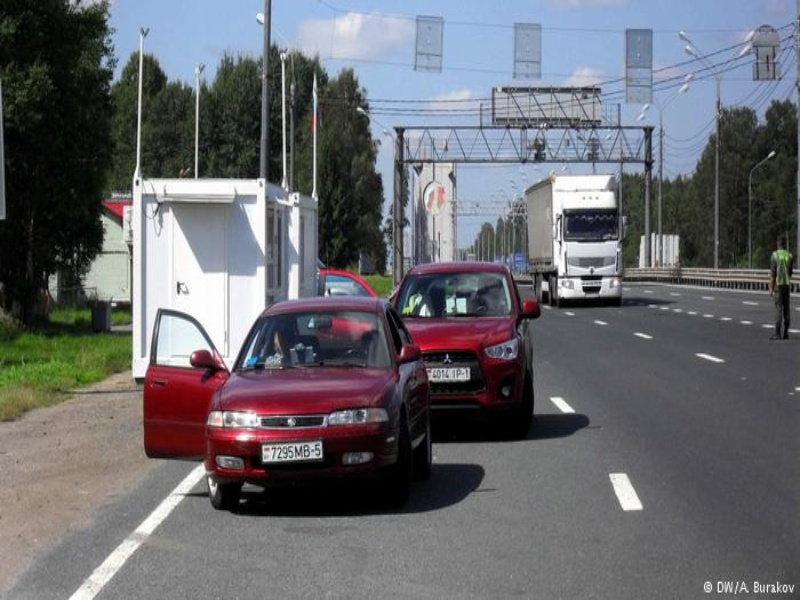car: (144, 295, 431, 511), (392, 262, 542, 427), (524, 174, 628, 304)
person: (768, 235, 794, 339)
plate: (261, 441, 322, 463), (427, 368, 470, 382)
